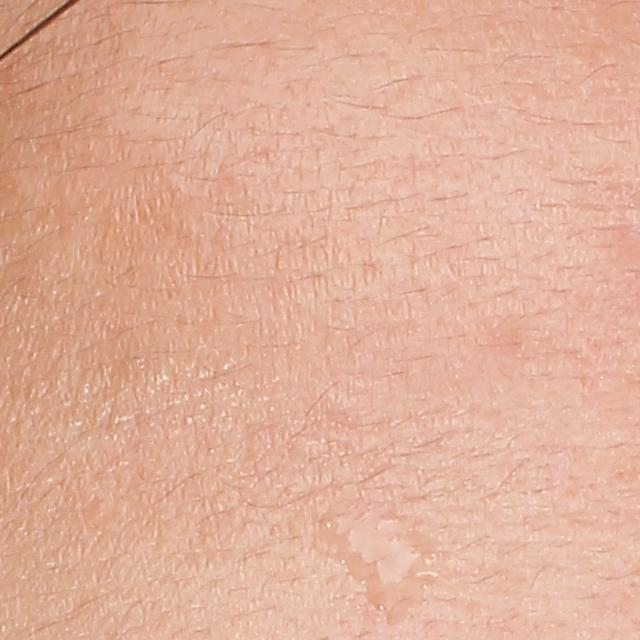other: (296, 495, 451, 613)
